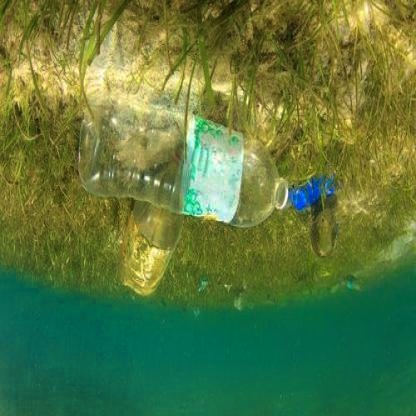pbottle: (62, 92, 296, 235), (112, 151, 190, 301)
